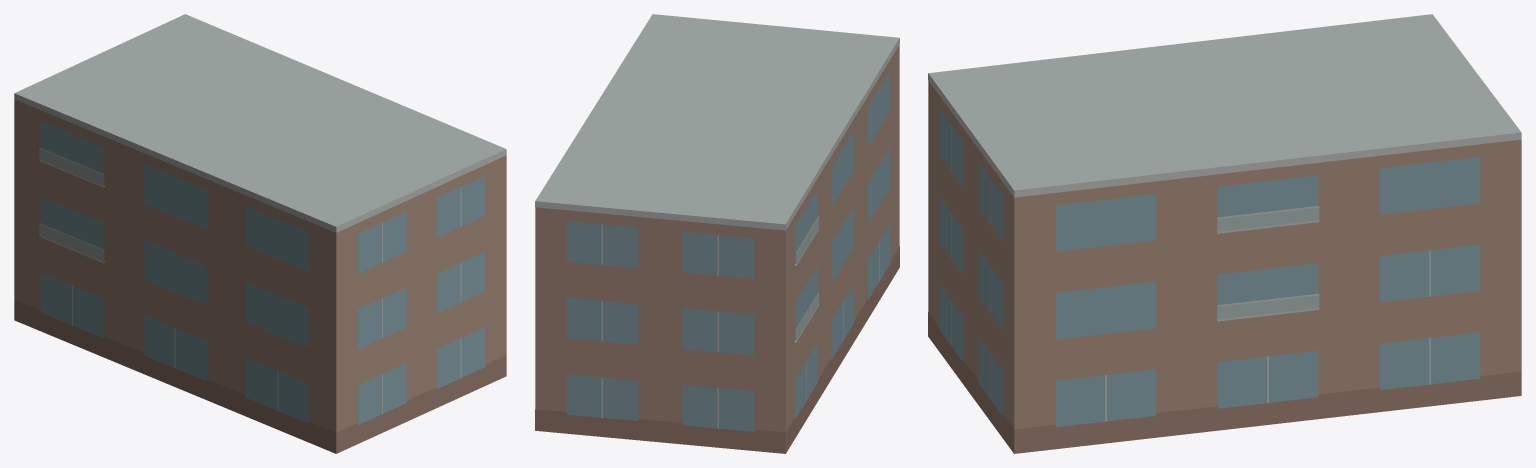
The model's file is survey-upis-32573615.glb.
3 views of the same model, side by side, from view 1: azimuth 30°, elevation 25°; view 2: azimuth 150°, elevation 25°; view 3: azimuth 270°, elevation 25° (orthographic). The views are drawn at different scales.
Parts seen in each view (by area): view 1: survey-upis-32573615.tmp; view 2: survey-upis-32573615.tmp; view 3: survey-upis-32573615.tmp.
Part boxes in pixels (x1=…): survey-upis-32573615.tmp: x1=14, y1=14, x2=506, y2=453; survey-upis-32573615.tmp: x1=535, y1=14, x2=899, y2=453; survey-upis-32573615.tmp: x1=928, y1=14, x2=1521, y2=453.
Bounding box in the file's own units: 13.17 × 9.15 × 18.7.
